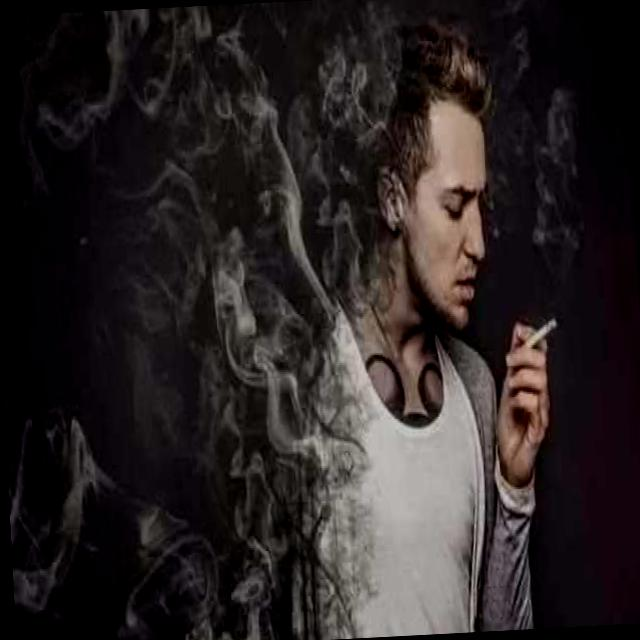smoke: (525, 316, 558, 351)
